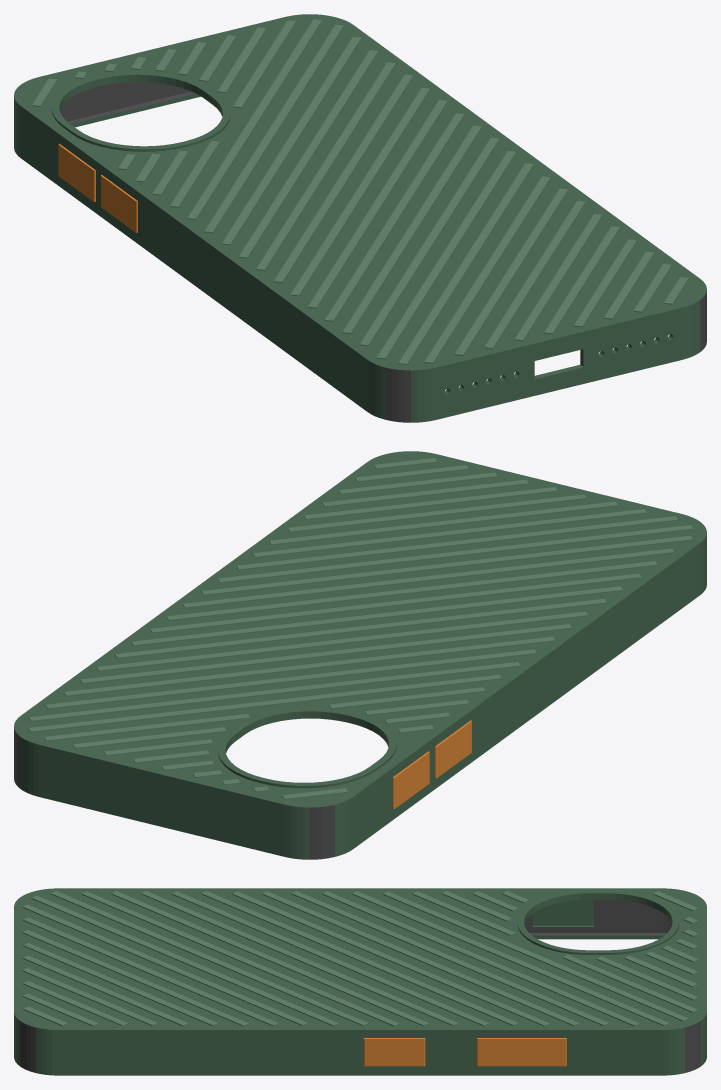
Rendered from kilif-rugged-dokuma-orman.glb.
3 renders of one model, top to bottom at view 1: azimuth 30°, elevation 25°; view 2: azimuth 150°, elevation 25°; view 3: azimuth 270°, elevation 25°, orthographic. The views are drawn at different scales.
Visible parts, largest first — view 1: Kilif; view 2: Kilif; view 3: Kilif.
Part boxes in pixels (box(x1,y1,x2,y2)): Kilif: box(14, 14, 706, 422); Kilif: box(14, 451, 706, 859); Kilif: box(14, 888, 706, 1075).
Bounding box in the file's own units: 0.0828 × 0.0129 × 0.1694.
